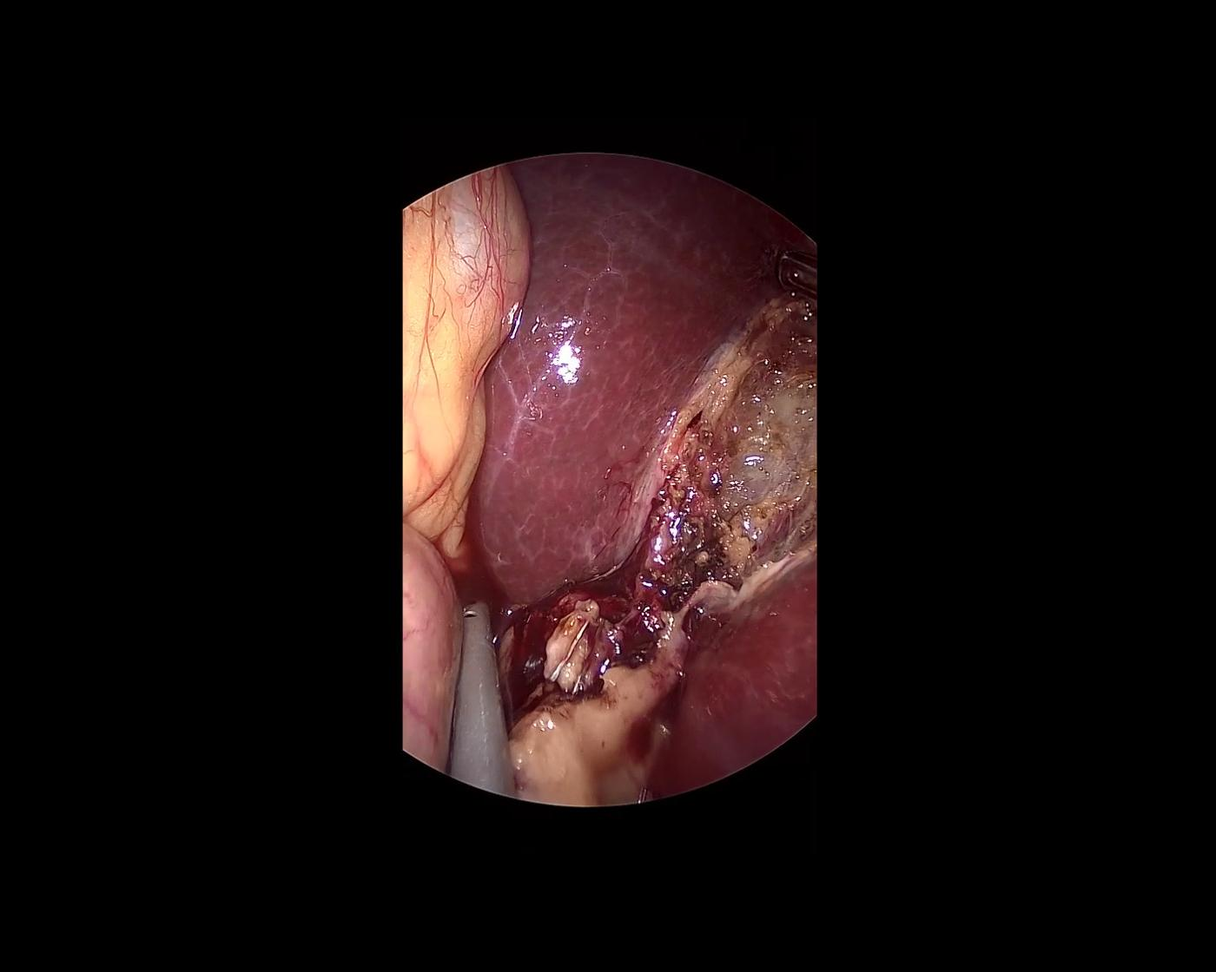Forceps: (778, 242, 816, 304)
Liver: (462, 145, 808, 631), (594, 544, 893, 822)
Suction: (426, 598, 514, 808)
